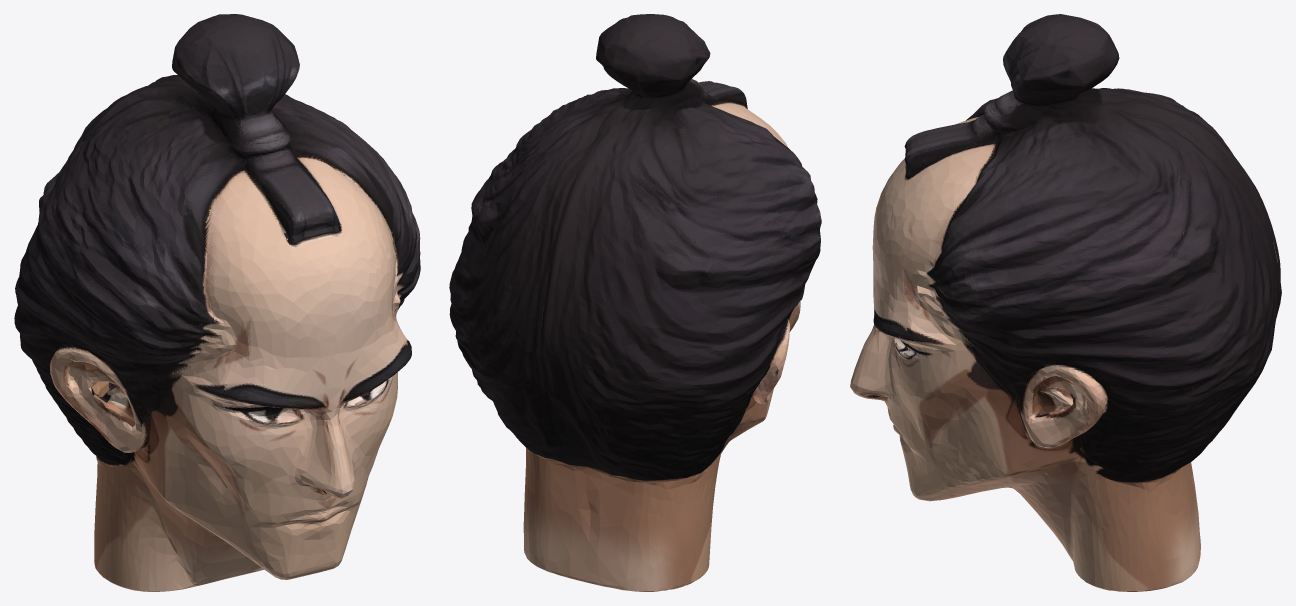
File: side_hagane_repaired_atlas.glb
3 renders of one model, left to right at view 1: azimuth 30°, elevation 25°; view 2: azimuth 150°, elevation 25°; view 3: azimuth 270°, elevation 25°, orthographic. The views are drawn at different scales.
Parts seen in each view (by area): view 1: temp_mesh.ply; view 2: temp_mesh.ply; view 3: temp_mesh.ply.
Part boxes in pixels (bbox=[...]): temp_mesh.ply: bbox=[14, 14, 420, 591]; temp_mesh.ply: bbox=[449, 14, 821, 591]; temp_mesh.ply: bbox=[850, 14, 1281, 591].
Size of the model in its own units: 0.9917 by 1.6 by 1.19.
1 material, 1 textured.
